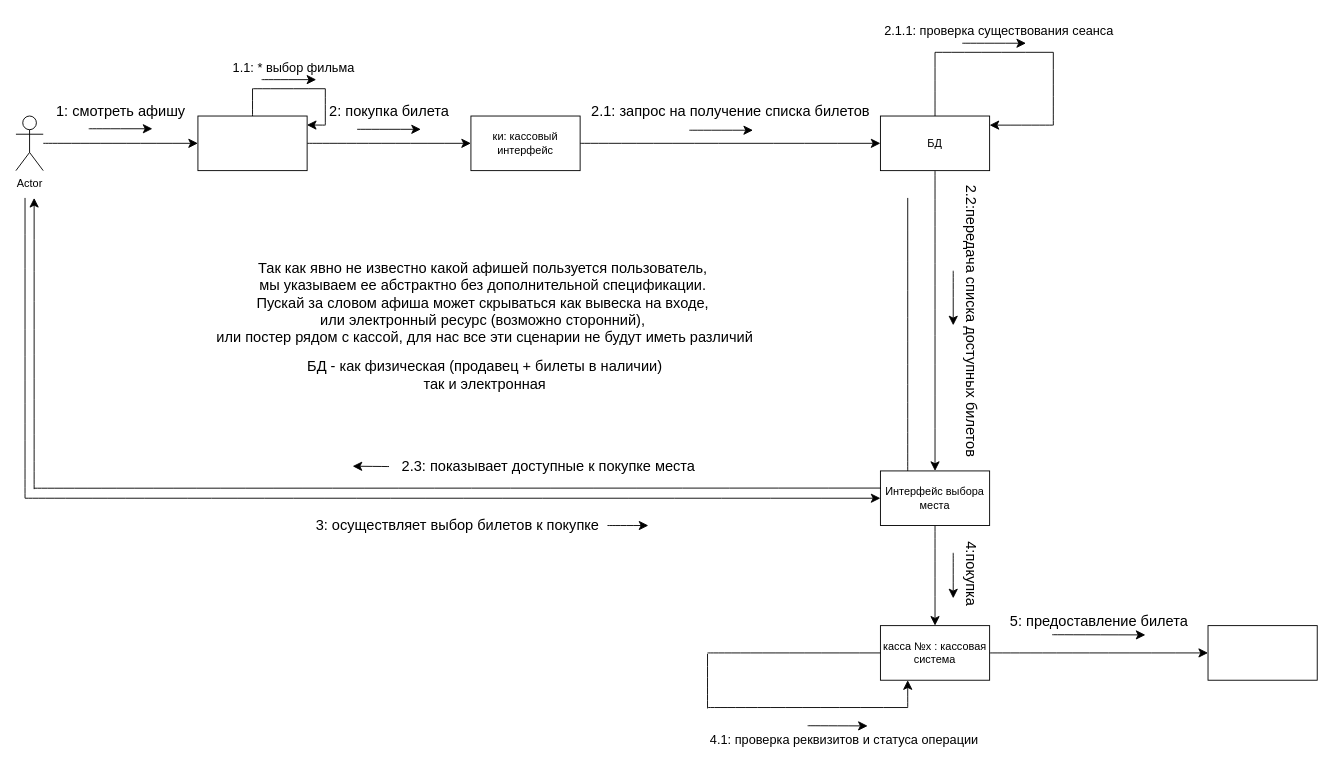
Image size: 1333x768. Some labels were removed from this diagram. Each missing label, with the box of its shape:
афиша: (197, 115, 307, 171)
диалоговый интерфейс: (1207, 625, 1317, 680)
